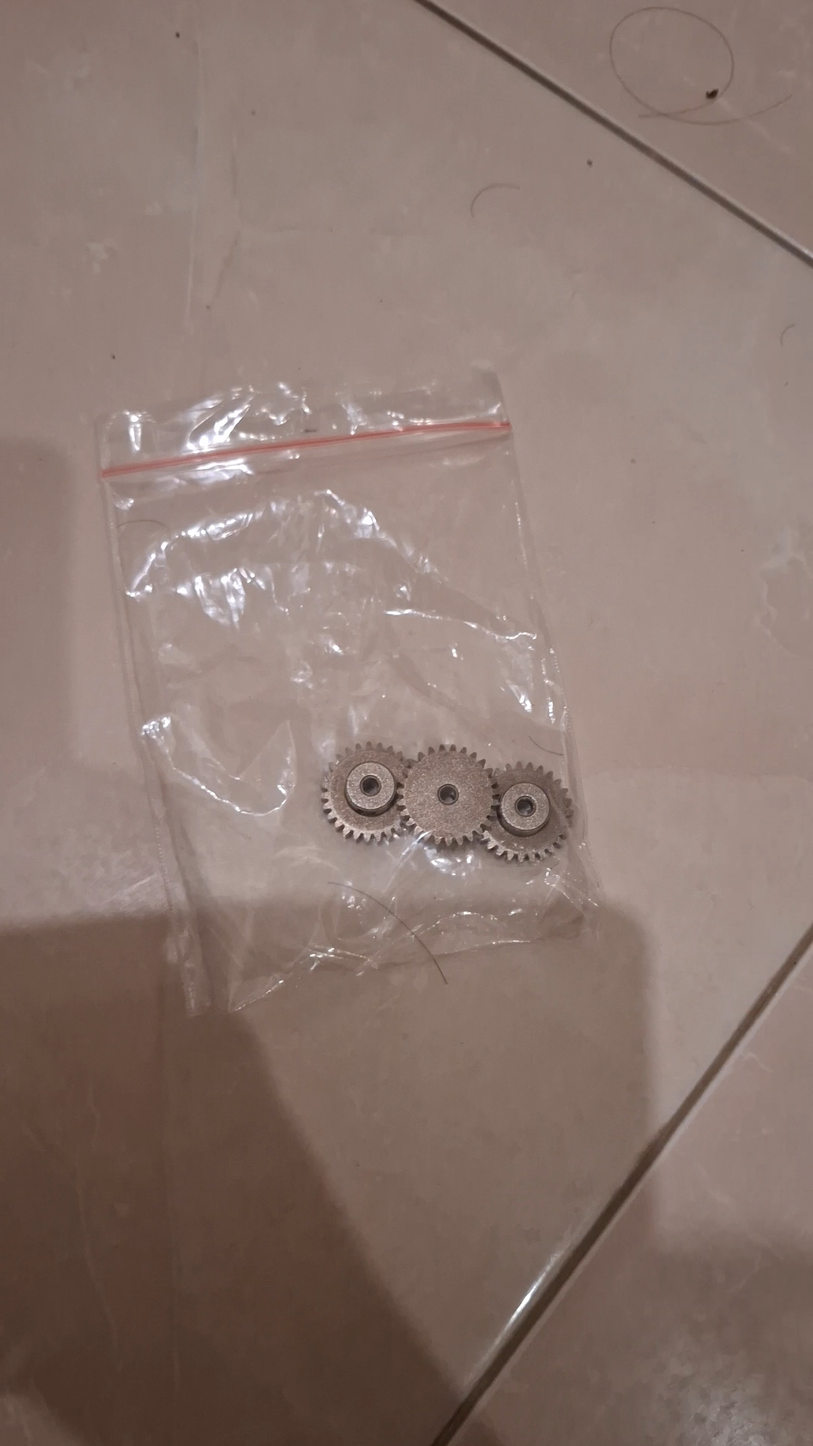spur gear: (320, 741, 421, 843), (475, 763, 577, 862), (399, 744, 496, 847)
